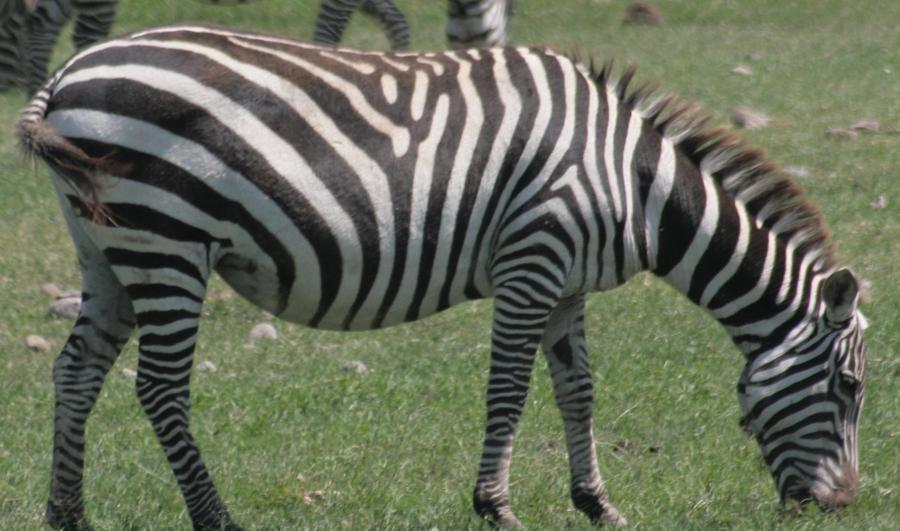zebra_plains: (76, 15, 603, 323)
